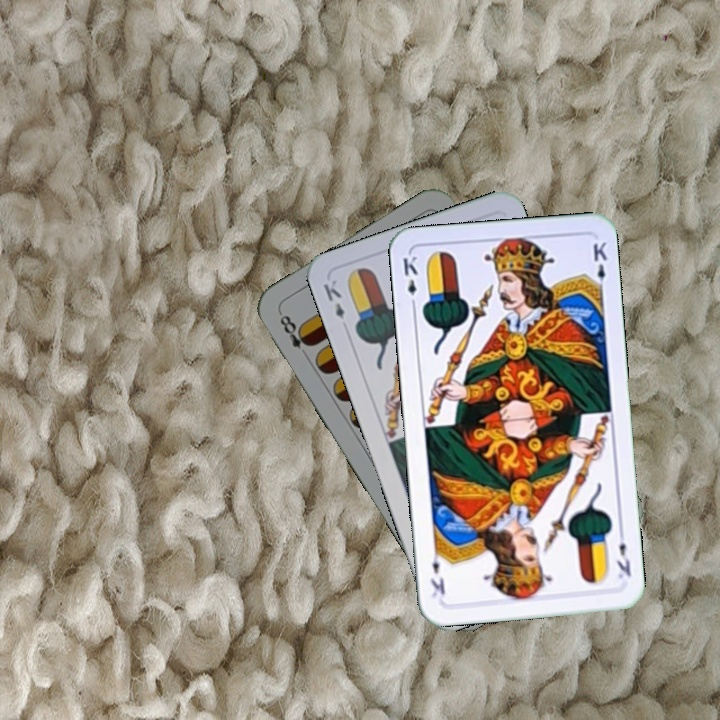E8: (275, 308, 315, 362)
EK: (319, 275, 347, 322), (399, 252, 421, 311), (612, 526, 634, 581)
